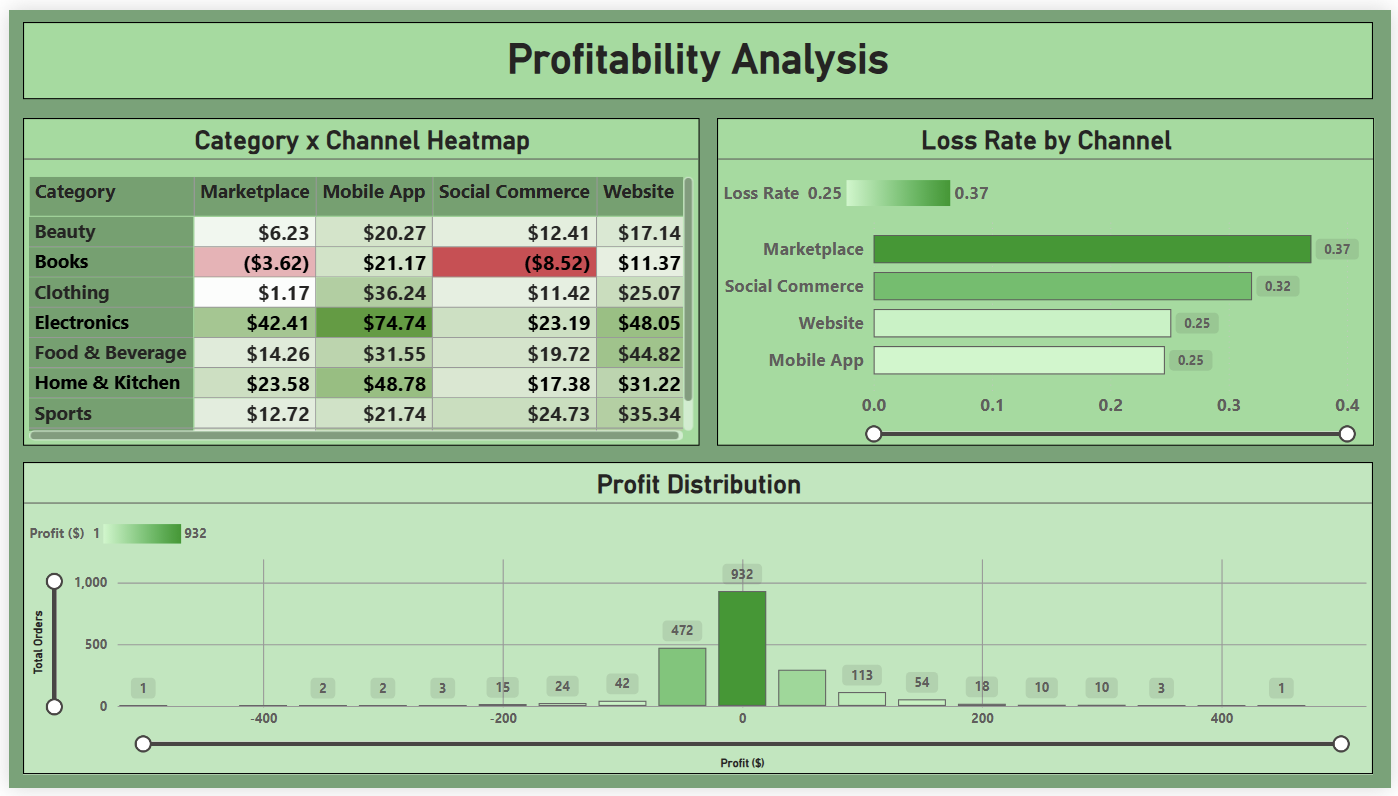

What the dashboard file says about the page in this screenshot:
{"tool":"powerbi","page":{"name":"Profitability Analysis","canvas":[1280,720],"ordinal":1},"visuals":[{"type":"pivotTable","title":"Category x Channel Heatmap","fields":{"Rows":["ecommerce orders.primary_category"],"Columns":["ecommerce orders.channel"],"Values":["Avg(ecommerce orders.profit)"]},"box":[13.3,100,626.7,303.3],"z":0},{"type":"textbox","box":[13.3,11.7,1250,71.7],"z":1000},{"type":"clusteredBarChart","title":"Loss Rate by Channel","fields":{"Y":["ecommerce orders.loss_rate"],"Category":["ecommerce orders.channel"]},"box":[655,100,608.3,303.3],"z":2000},{"type":"clusteredColumnChart","title":"Profit Distribution","fields":{"Category":["ecommerce orders.profit (bins)"],"Y":["CountNonNull(ecommerce orders.order_id)"]},"box":[13,418.5,1250,288.9],"z":3000}]}

Visuals, with their boxes in screenshot pixels (x1, y1, x2, y2), scaled from the page's 1280x720 canvas onto the 1398x796 screenshot:
"Category x Channel Heatmap" pivotTable: 15:111:699:446
textbox: 15:13:1380:92
"Loss Rate by Channel" clusteredBarChart: 715:111:1380:446
"Profit Distribution" clusteredColumnChart: 14:463:1379:782
